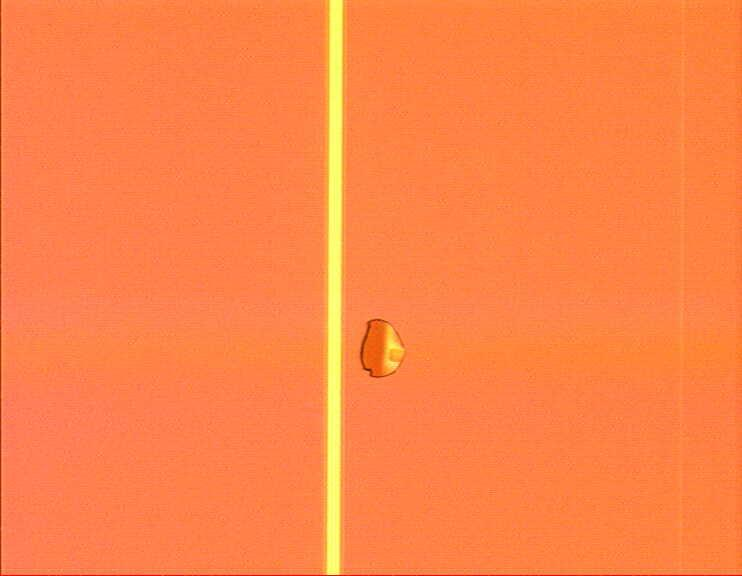PIQ PARTICLE: (357, 312, 409, 381)
